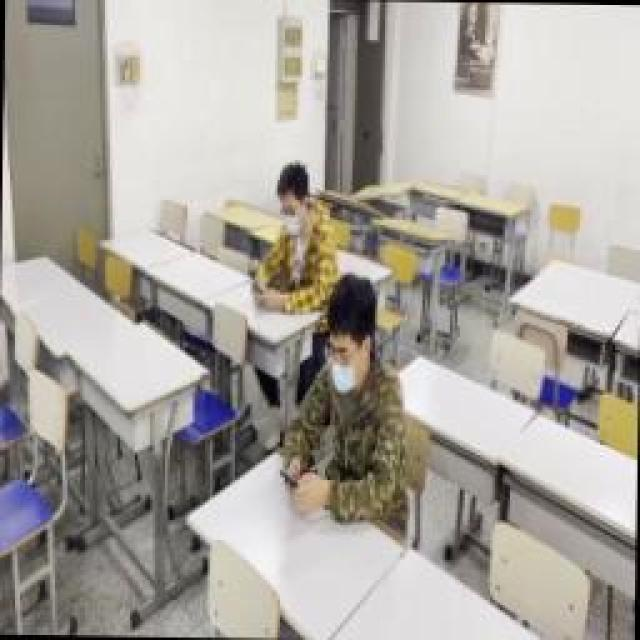phone: (282, 312, 408, 518), (250, 165, 328, 313)
